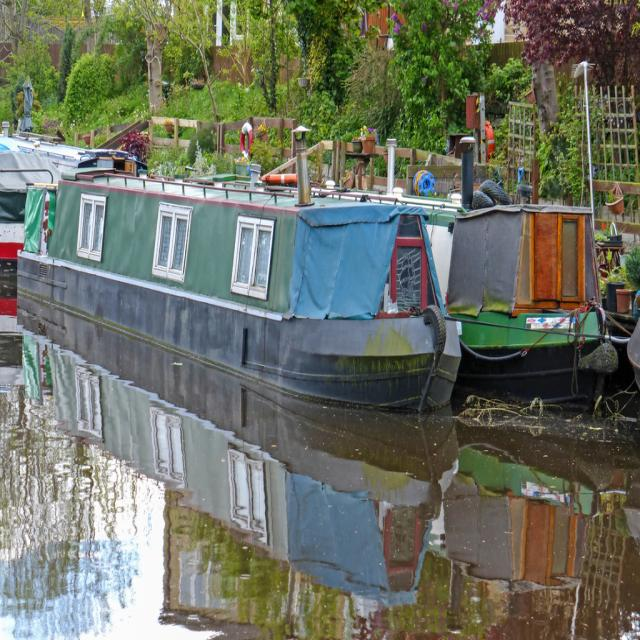Boat: (15, 121, 465, 418), (270, 146, 618, 410), (0, 117, 153, 312)
